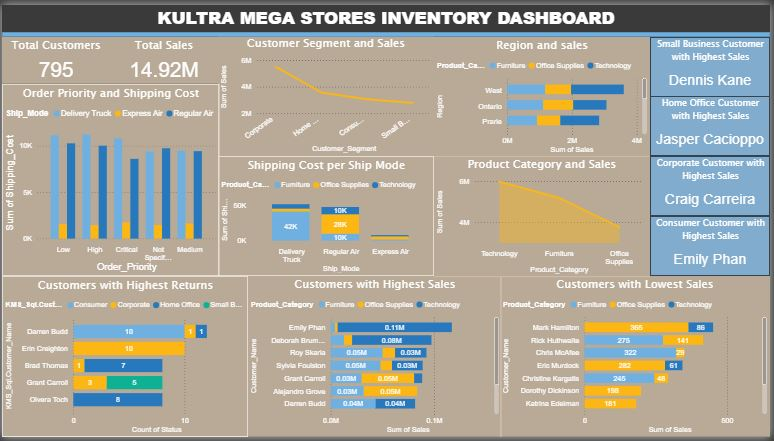

The dashboard page shown, as its layout file describes it:
{"tool":"powerbi","page":{"name":"Page 1","canvas":[1280,720],"ordinal":0},"visuals":[{"type":"card","title":"Total Customers","fields":{"Values":["KMS_Sql.Customer_Name"]},"box":[0,54,180,78],"z":0},{"type":"card","title":"Total Sales","fields":{"Values":["KMS_Sql.Sales"]},"box":[180,54,180,78],"z":1000},{"type":"lineChart","title":"Customer Segment and Sales","fields":{"Category":["KMS_Sql.Customer_Segment"],"Y":["KMS_Sql.Sales"]},"box":[360,50,360,201.7],"z":2000},{"type":"barChart","title":"Region and sales","fields":{"Category":["KMS_Sql.Region"],"Y":["KMS_Sql.Sales"],"Series":["KMS_Sql.Product_Category"]},"box":[720,54,360,200],"z":3000},{"type":"columnChart","title":"Shipping Cost per Ship Mode","fields":{"Category":["KMS_Sql.Ship_Mode"],"Y":["KMS_Sql.Shipping_Cost"],"Series":["KMS_Sql.Product_Category"]},"box":[360,251.7,360,200],"z":4000},{"type":"card","title":"Small Business Customer with Highest Sales","fields":{"Values":["KMS_Sql.Customer_Name"]},"box":[1080,53.3,200,100],"z":6000},{"type":"card","title":"Home Office Customer with Highest Sales","fields":{"Values":["KMS_Sql.Customer_Name"]},"box":[1080,152,200,100],"z":7000},{"type":"card","title":"Corporate Customer with Highest Sales","fields":{"Values":["KMS_Sql.Customer_Name"]},"box":[1080,252,200,100],"z":8000},{"type":"card","title":"Consumer Customer with Highest Sales","fields":{"Values":["KMS_Sql.Customer_Name"]},"box":[1080,352,200,100],"z":9000},{"type":"barChart","title":"Customers with Highest Returns","fields":{"Category":["Returns customer.KMS_Sql.Customer_Name"],"Y":["Returns customer.Status"],"Series":["Returns customer.KMS_Sql.Customer_Segment"]},"box":[0,451.7,410,268.3],"z":10000},{"type":"shape","title":"KULTRA MEGA STORES INVENTORY DASHBOARD","box":[0,0,1280,53.3],"z":11000},{"type":"barChart","title":"Customers with Highest Sales","fields":{"Y":["KMS_Sql.Sales"],"Category":["KMS_Sql.Customer_Name"],"Series":["KMS_Sql.Product_Category"]},"box":[410,451.7,423.3,268.3],"z":12000},{"type":"barChart","title":"Customers with Lowest Sales","fields":{"Y":["KMS_Sql.Sales"],"Category":["KMS_Sql.Customer_Name"],"Series":["KMS_Sql.Product_Category"]},"box":[830,452,450,268],"z":13000},{"type":"clusteredColumnChart","title":"Order Priority and Shipping Cost","fields":{"Category":["KMS_Sql.Order_Priority"],"Y":["KMS_Sql.Shipping_Cost"],"Series":["KMS_Sql.Ship_Mode"]},"box":[0,131.7,361.7,320],"z":14000},{"type":"areaChart","title":"Product Category and Sales","fields":{"Category":["KMS_Sql.Product_Category"],"Y":["KMS_Sql.Sales"]},"box":[720,252,360,202],"z":14001}]}

Visuals, with their boxes in screenshot pixels (x1, y1, x2, y2), scaled from the page's 1280x720 canvas onto the 774x441 screenshot:
"Total Customers" card: (0,33,109,81)
"Total Sales" card: (109,33,218,81)
"Customer Segment and Sales" lineChart: (218,31,435,154)
"Region and sales" barChart: (435,33,653,156)
"Shipping Cost per Ship Mode" columnChart: (218,154,435,277)
"Small Business Customer with Highest Sales" card: (653,33,773,94)
"Home Office Customer with Highest Sales" card: (653,93,773,154)
"Corporate Customer with Highest Sales" card: (653,154,773,216)
"Consumer Customer with Highest Sales" card: (653,216,773,277)
"Customers with Highest Returns" barChart: (0,277,248,440)
"KULTRA MEGA STORES INVENTORY DASHBOARD" shape: (0,0,773,33)
"Customers with Highest Sales" barChart: (248,277,504,440)
"Customers with Lowest Sales" barChart: (502,277,773,440)
"Order Priority and Shipping Cost" clusteredColumnChart: (0,81,219,277)
"Product Category and Sales" areaChart: (435,154,653,278)
